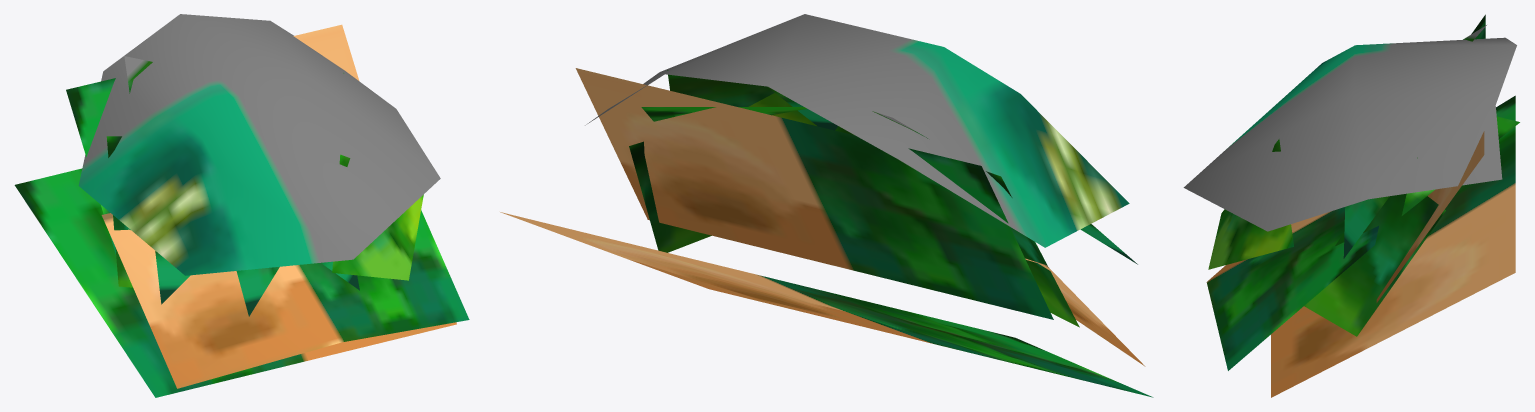
The model's file is fg_bushD_2_s.dae.
3 renders of one model, left to right at view 1: azimuth 30°, elevation 25°; view 2: azimuth 150°, elevation 25°; view 3: azimuth 270°, elevation 25°, orthographic. The views are drawn at different scales.
Visible parts, largest first — view 1: fg_bushD_2_s; view 2: fg_bushD_2_s; view 3: fg_bushD_2_s.
Boxes of the visible parts, x1,y1,x2,y2 form: fg_bushD_2_s: (14, 14, 469, 397); fg_bushD_2_s: (500, 14, 1153, 397); fg_bushD_2_s: (1183, 14, 1519, 397).
Size of the model in its own units: 47.83 by 34.27 by 38.41.
1 material, 1 textured.
